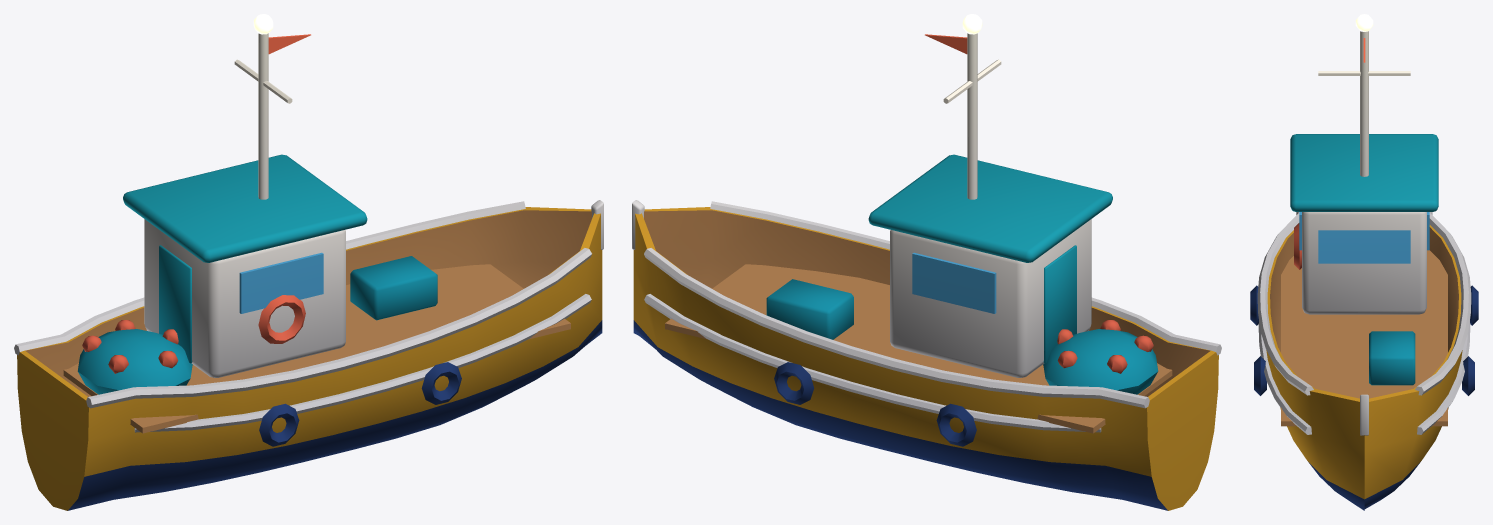
Rendered from boat_fishing.glb.
3 renders of one model, left to right at view 1: azimuth 30°, elevation 25°; view 2: azimuth 150°, elevation 25°; view 3: azimuth 270°, elevation 25°, orthographic. The views are drawn at different scales.
Visible parts, largest first — view 1: boat_fishing; view 2: boat_fishing; view 3: boat_fishing.
Part boxes in pixels (x1=…): boat_fishing: x1=14, y1=14, x2=603, y2=510; boat_fishing: x1=632, y1=14, x2=1221, y2=510; boat_fishing: x1=1250, y1=14, x2=1478, y2=510.
Size of the model in its own units: 6 by 4.6 by 2.47.
